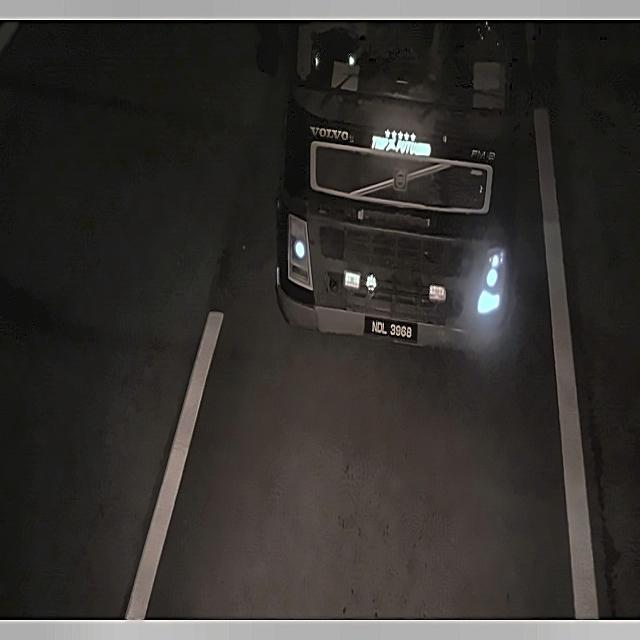car: (360, 311, 421, 348)
